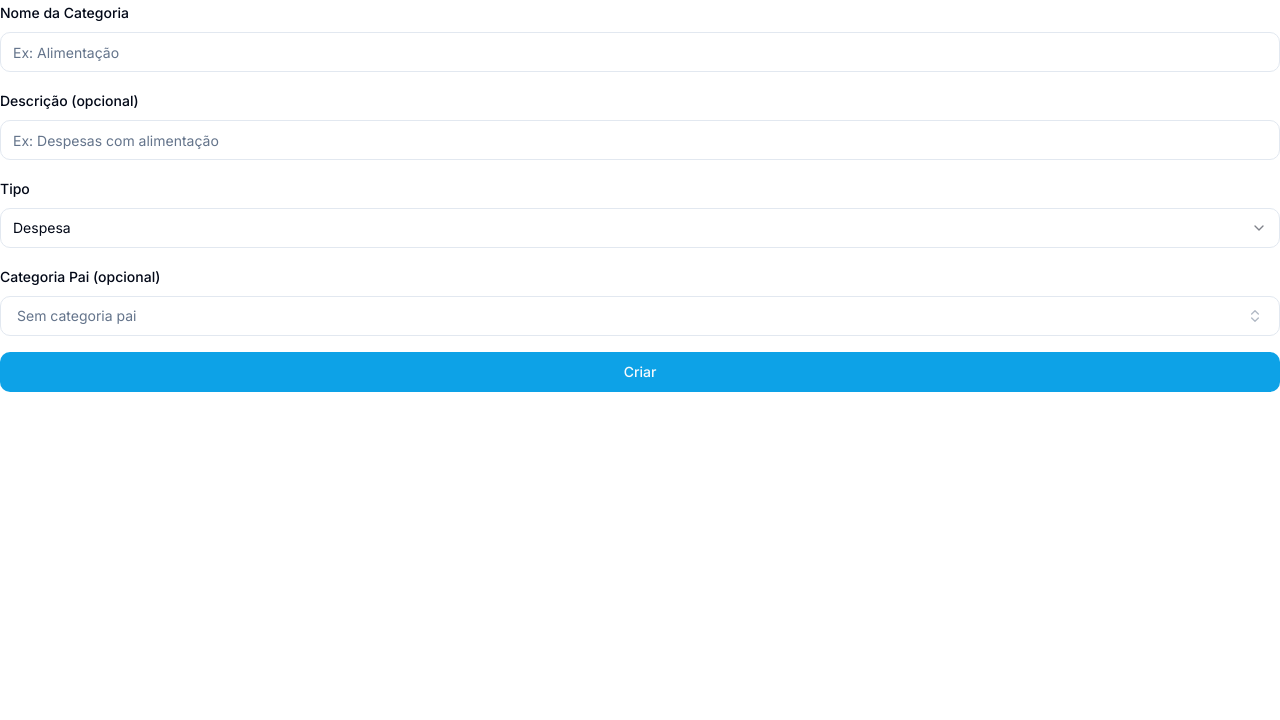
Test: CategoryForm › deve abrir popover de categorias ao clicar no combobox
What coordinates should you click on to do the following:
click the dropdown named "selecionar categoria pai"
I would click on:
 (77, 316)
Its box is [0,296,1279,336].
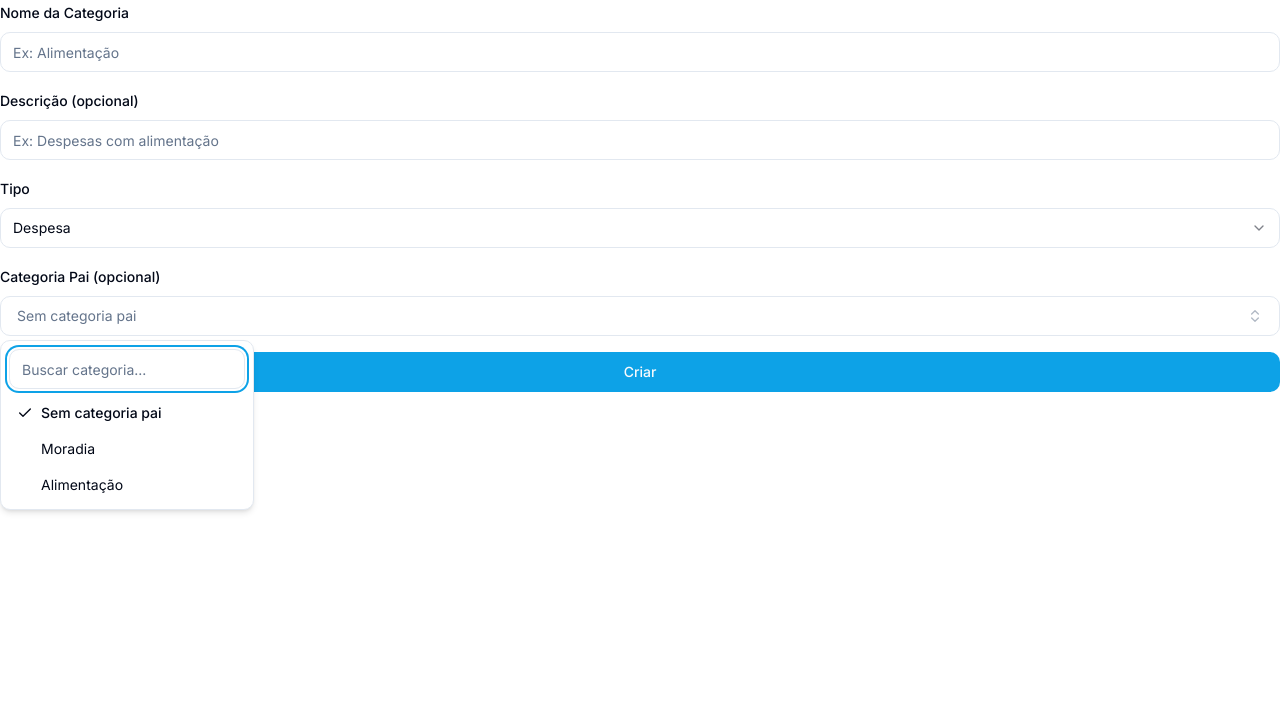
expect the button "Moradia" is shown: met, box [9,433,245,465]
expect the button "Alimentação" is shown: met, box [9,469,245,501]
expect the field with placeholder "Buscar categoria..." is shown: met, box [9,349,245,389]
